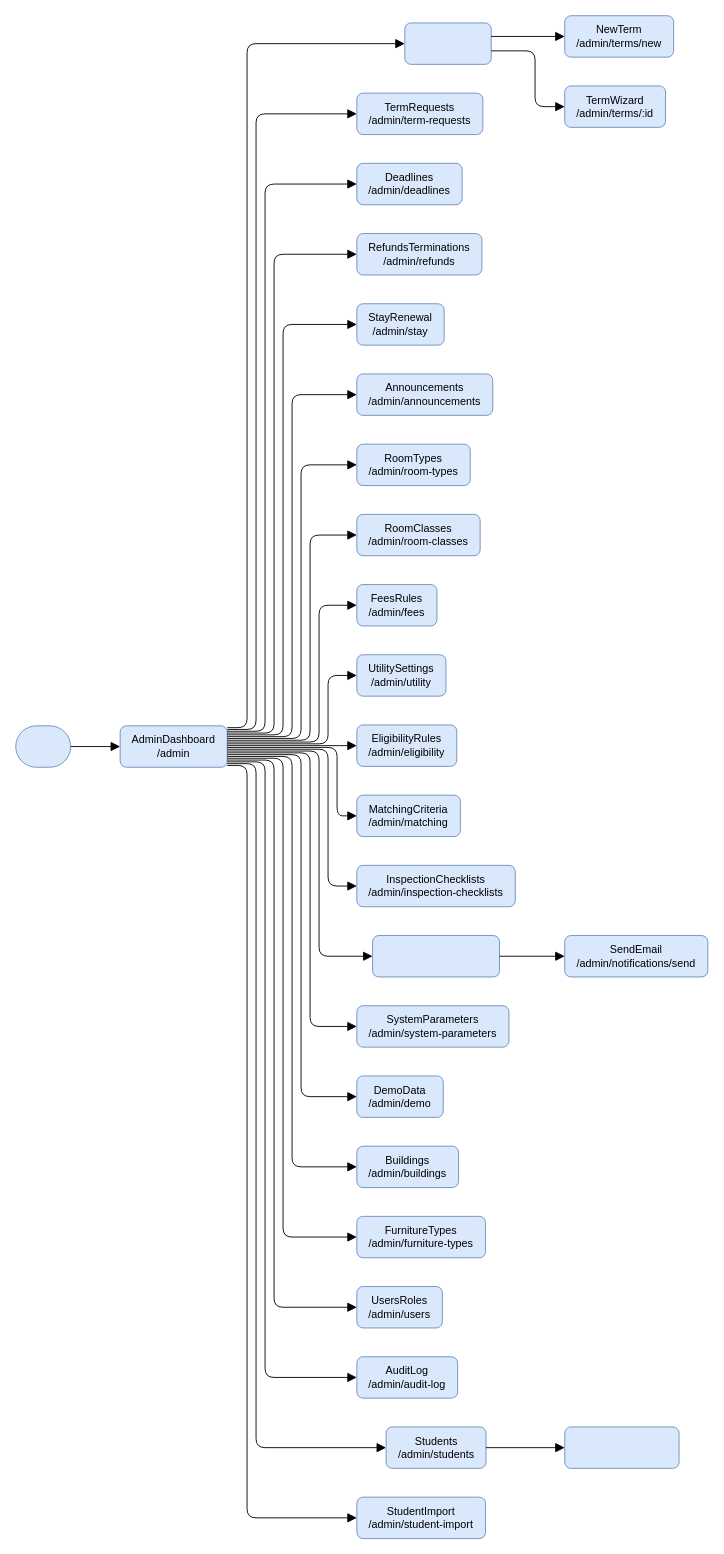
This 724x1554 diagram has some shape labels left out. Here are the shapes that lost their labels. From the top down, the box of each, then its label:
(404, 22, 491, 64): Terms /admin/terms
(15, 725, 71, 767): SignIn /signin
(372, 935, 500, 977): NotificationTemplates /admin/notifications
(564, 1426, 679, 1468): StudentHub /admin/students/:id
